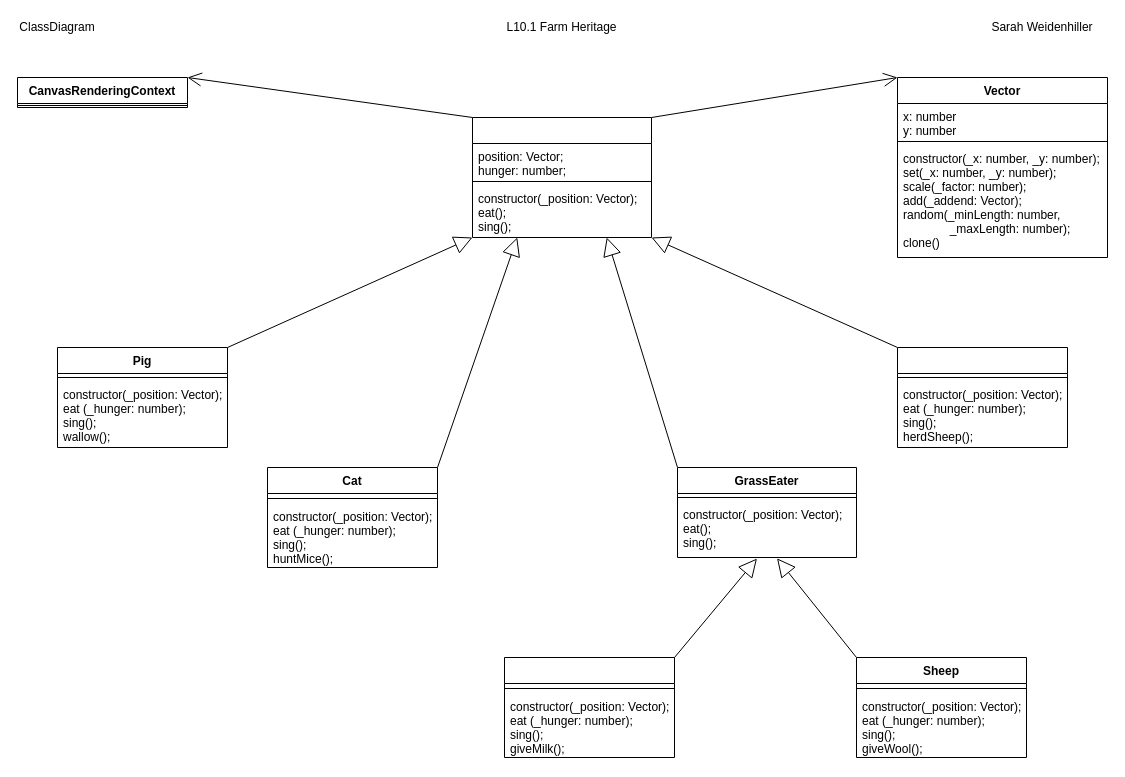
This 1125x777 diagram has some shape labels left out. Here are the shapes that lost their labels. From the top down, the box of each, then its label:
(472, 116, 652, 238): Animal
(896, 346, 1068, 448): Dog
(504, 656, 674, 758): Cow
